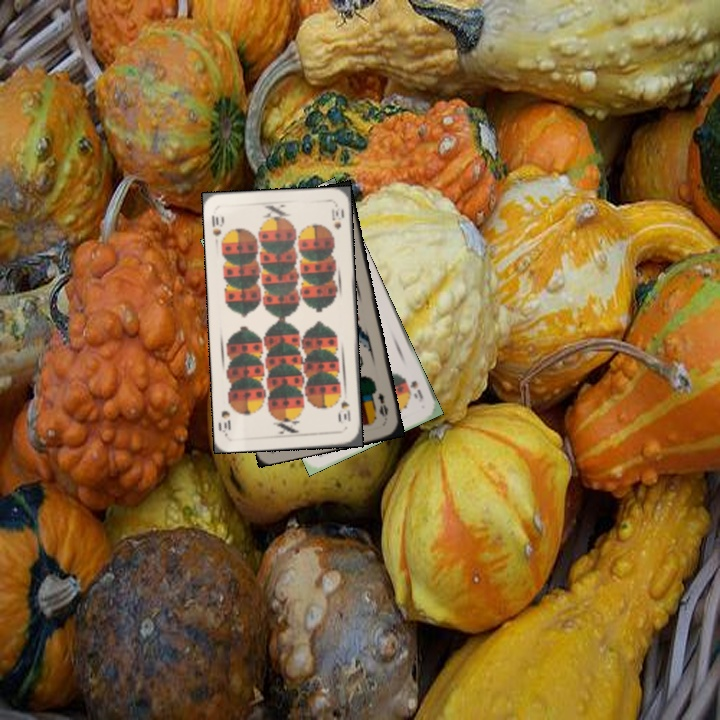EO: (374, 389, 391, 419)
S10: (208, 211, 227, 239), (337, 397, 353, 426)
SO: (400, 373, 426, 402)
